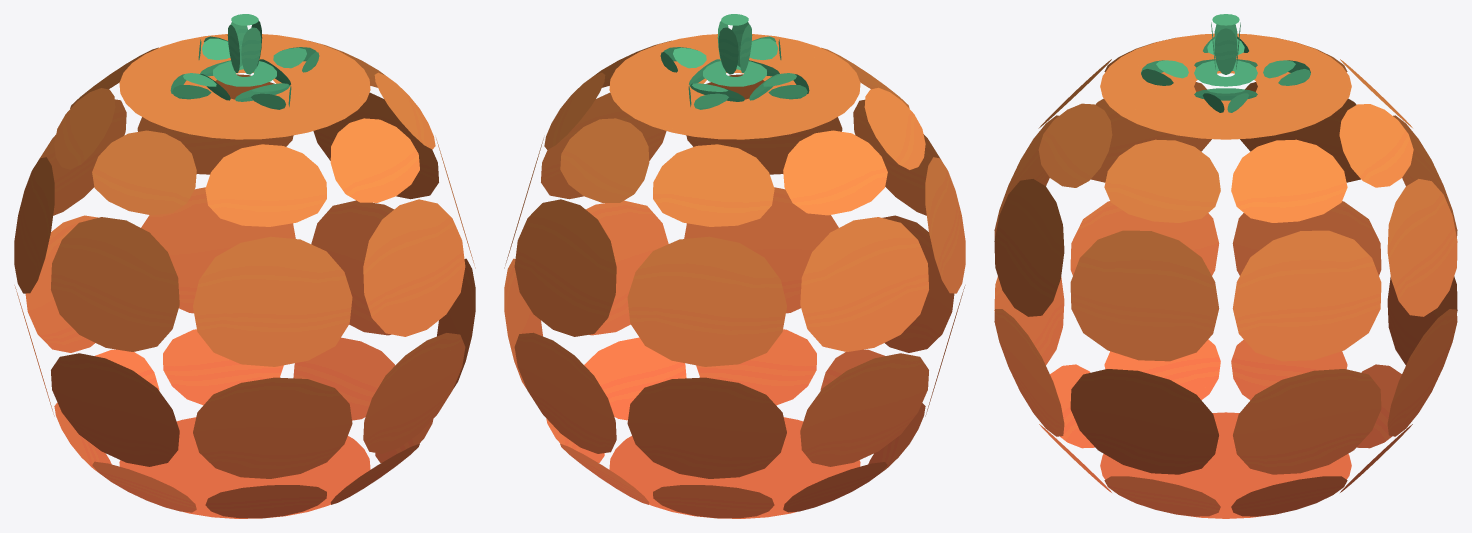
File: orange.glb
3 views of the same model, side by side, from view 1: azimuth 30°, elevation 25°; view 2: azimuth 150°, elevation 25°; view 3: azimuth 270°, elevation 25° (orthographic).
Parts seen in each view (by area): view 1: orange; view 2: orange; view 3: orange.
Boxes of the visible parts, box(x1,y1,x2,y2) form: orange: box(14, 14, 475, 518); orange: box(504, 14, 965, 518); orange: box(994, 14, 1457, 518).
Size of the model in its own units: 0.1574 by 0.1672 by 0.1574.
Materials: 1 (1 with a texture image).
